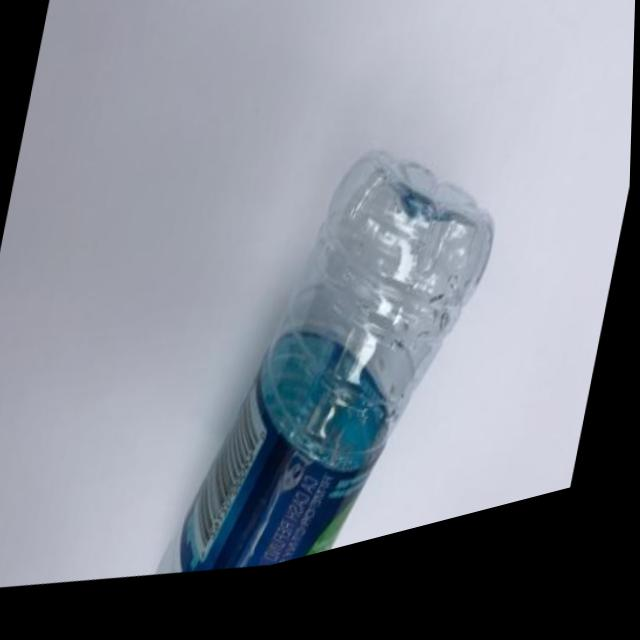plastic: (163, 60, 543, 603)
